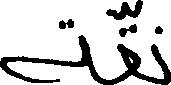X: (0, 14, 91, 84), (117, 0, 140, 84), (152, 21, 170, 84)
